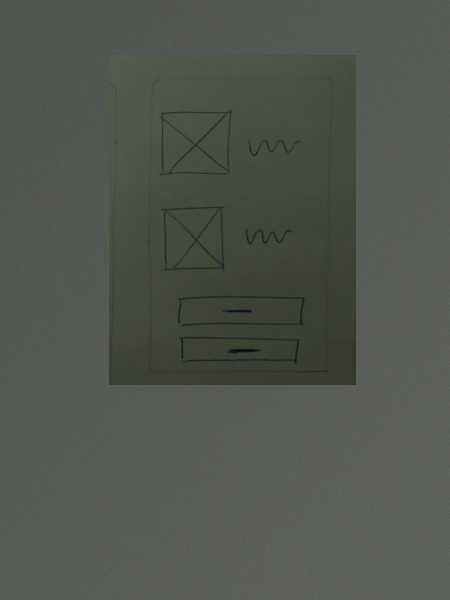button: (172, 292, 310, 331), (176, 334, 305, 366)
image: (157, 105, 236, 182), (156, 202, 229, 273)
text: (244, 133, 303, 160), (243, 223, 297, 248)
